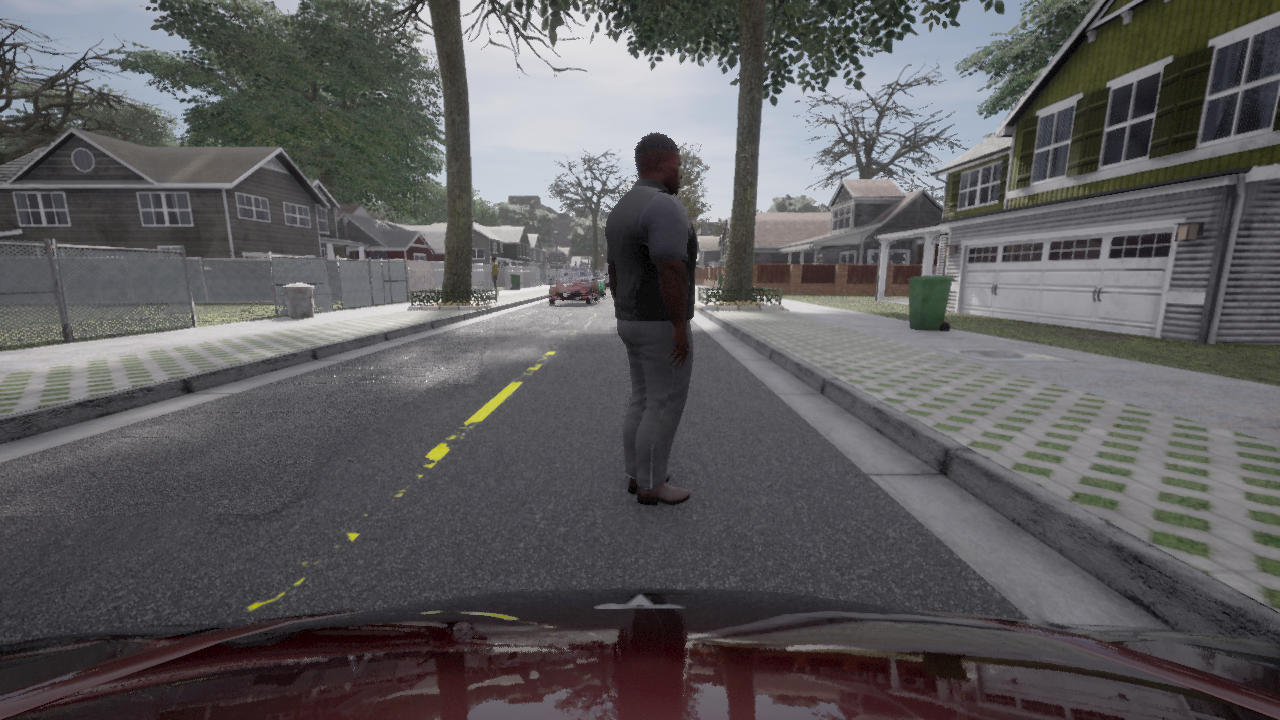cyclist: (0, 588, 1279, 719), (548, 266, 598, 304), (591, 270, 605, 296), (601, 269, 610, 285)
pedestrian: (606, 132, 698, 505), (491, 256, 497, 295)
